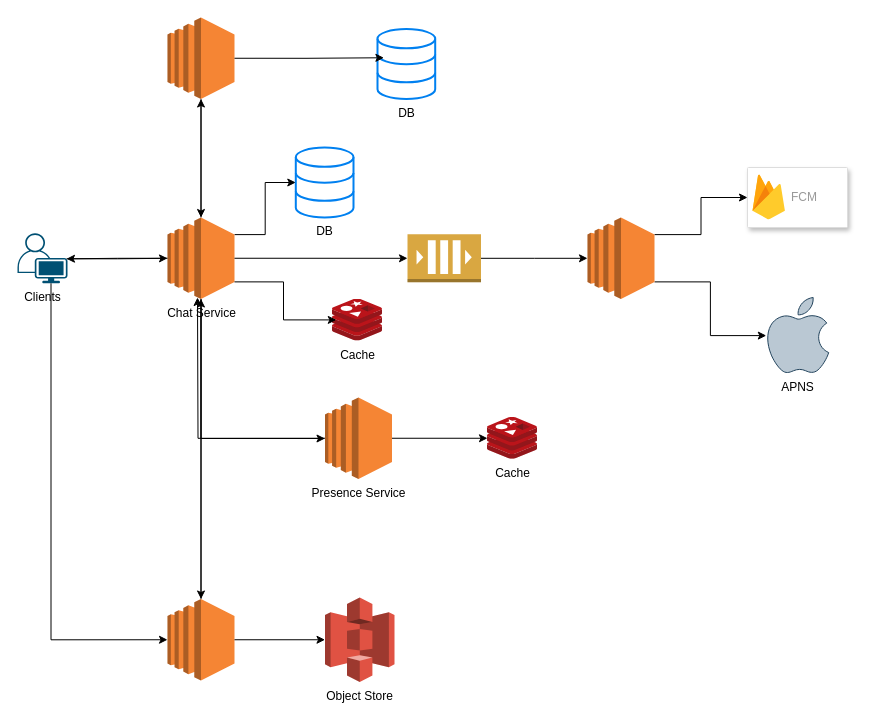
The diagram is 871 pixels wide and 720 high, and some of its shapes have lost their labels. Here are the shapes that lost their labels. From the top down, the centre of each, then its label:
(200,57): User Service
(443,257): Queue
(620,257): Notification Service
(200,639): Media Service
